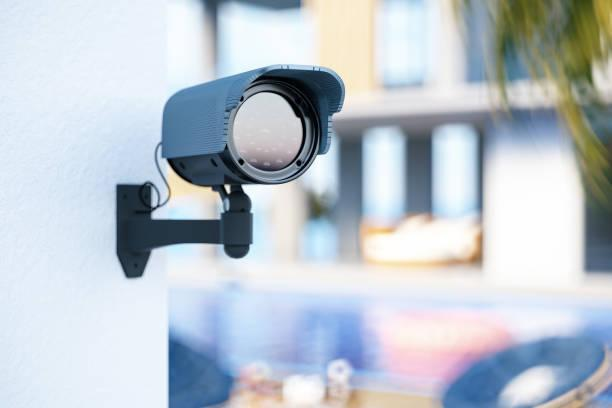camera: (128, 56, 369, 227)
